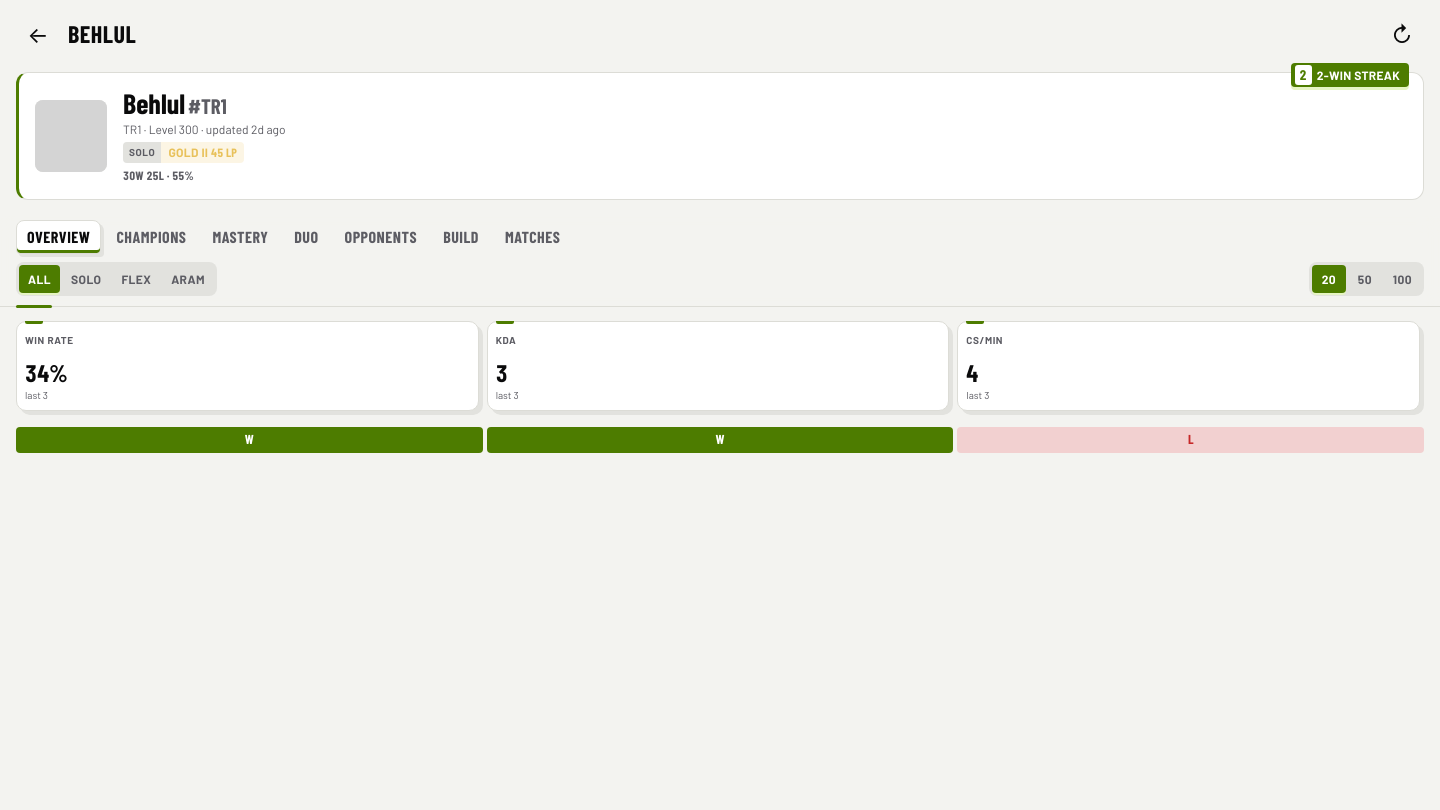
it: League player page, older server (no stats endpoint) › still renders an answer without any of the detailed fields
Expected: the element with test id "tile-winRate" is shown, x1=16 y1=321 x2=479 y2=411
Expected: the element with test id "tile-kda" is shown, x1=487 y1=321 x2=949 y2=411
Click the tab "Champions": (151, 237) x1=105 y1=220 x2=198 y2=254
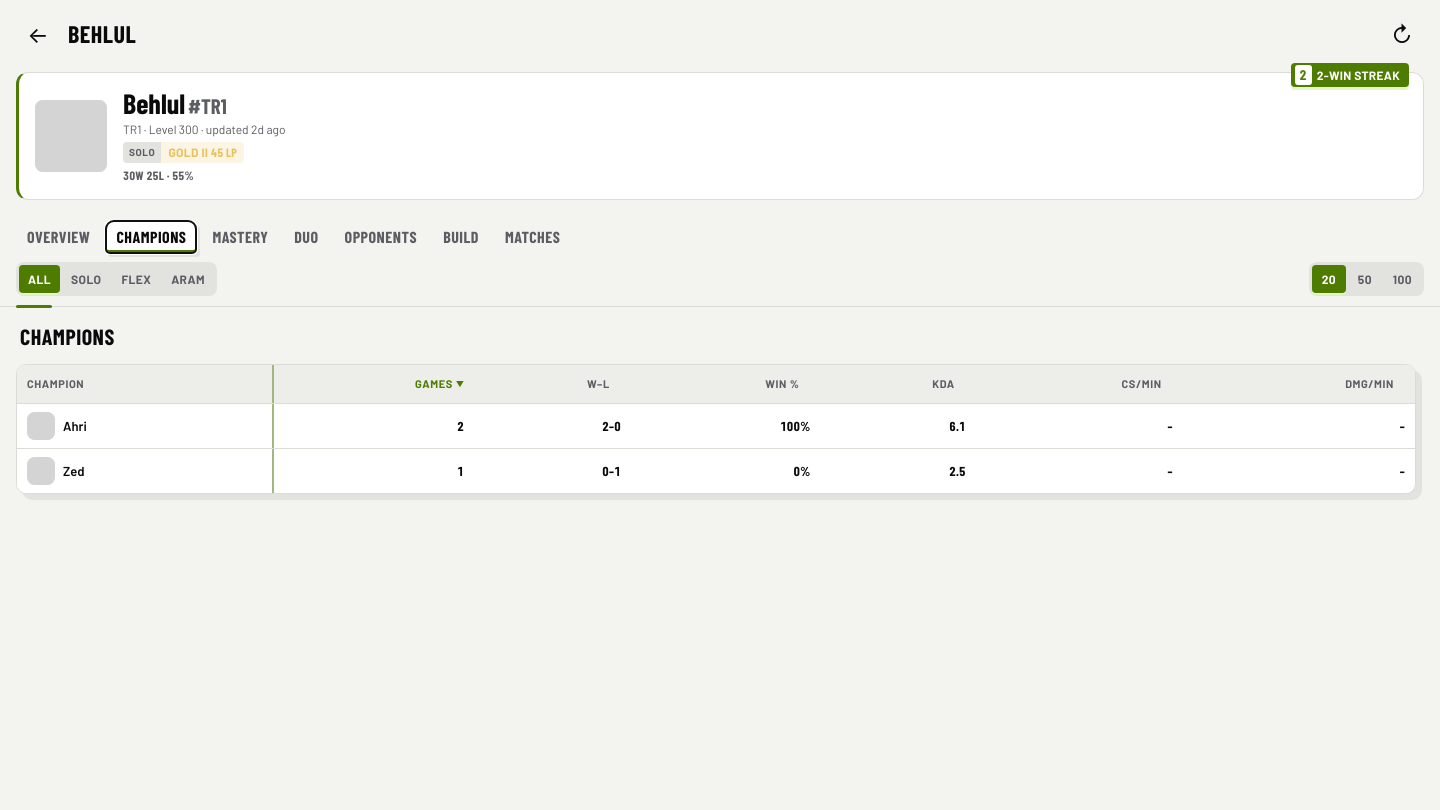
Click the tab "Matches": (533, 237) x1=494 y1=220 x2=571 y2=254
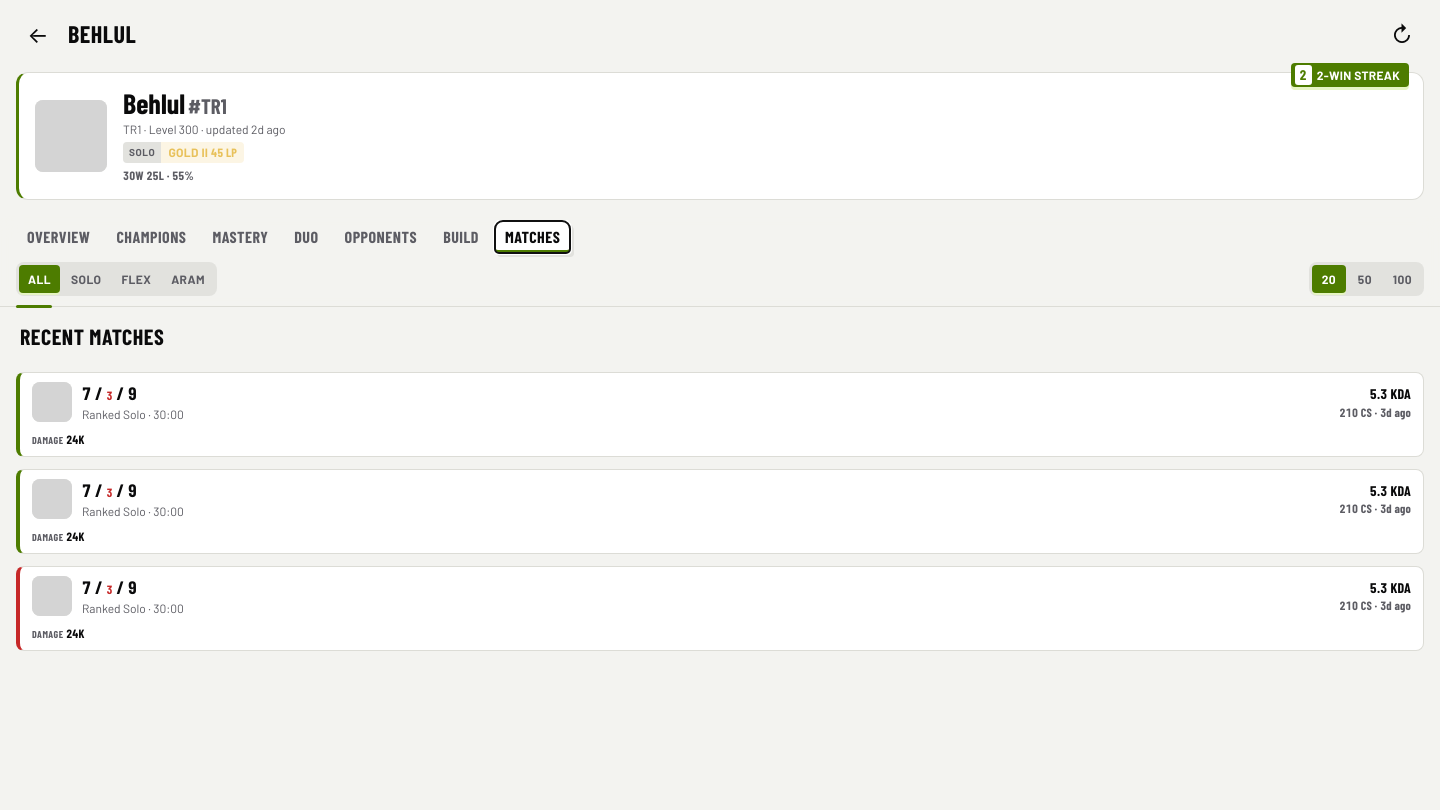
Result: the number of links with test id "match-row" is 3 at x1=16 y1=372 x2=1424 y2=457; x1=16 y1=469 x2=1424 y2=554; x1=16 y1=566 x2=1424 y2=651
Result: the 1st text "Damage" is shown at x1=32 y1=434 x2=64 y2=446
